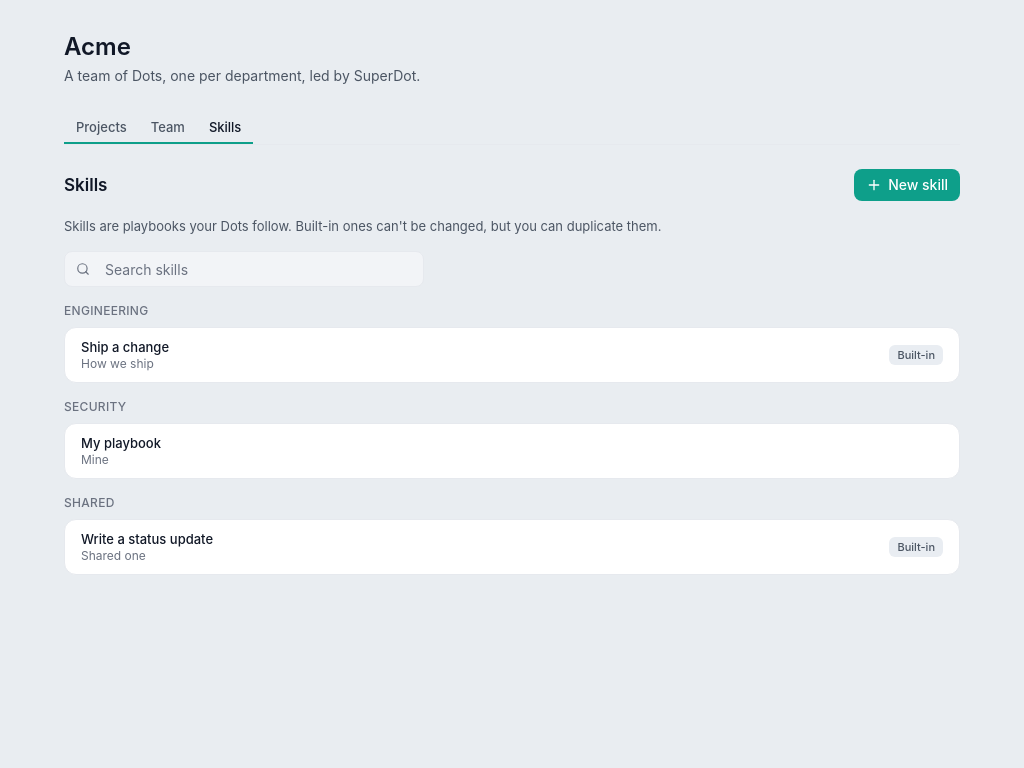
skills › shows a built-in as read-only and duplicates it
Click the text "Ship a change": (125, 347) [81, 339, 169, 355]
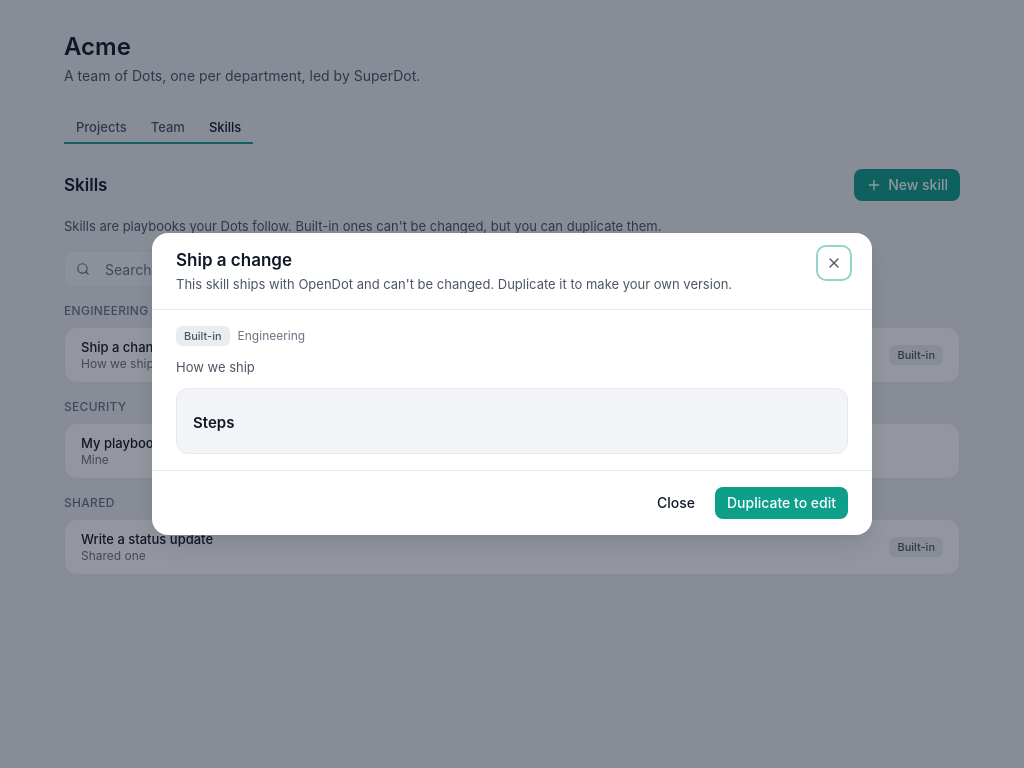
Check: the text "can't be changed" is shown, box [64, 218, 662, 234]
Check: the button "Save skill" is not shown
Click the button "Duplicate to edit": (782, 503) [715, 487, 848, 519]
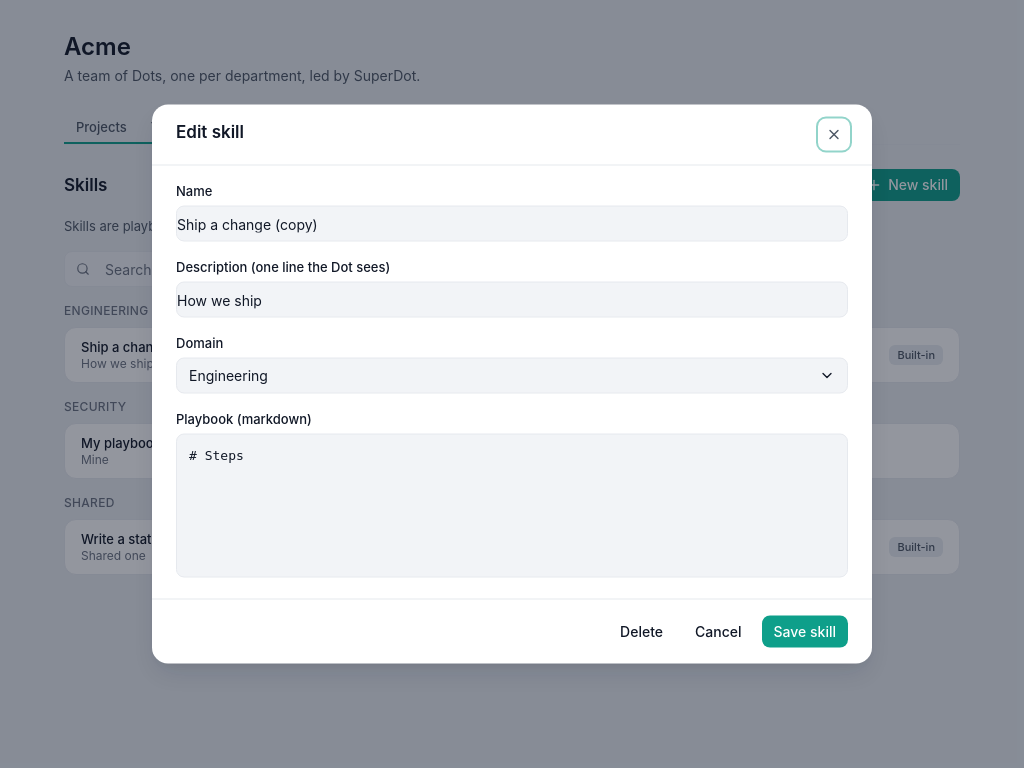
Check: the button "Save skill" is shown, box [762, 616, 848, 648]
